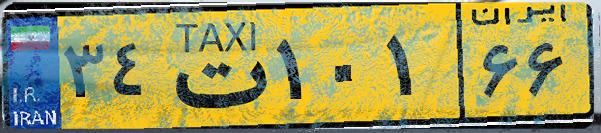0: (330, 28, 385, 110)
1: (270, 28, 330, 110), (385, 28, 445, 110)
3: (57, 26, 110, 100)
4: (110, 28, 158, 98)
6: (475, 38, 525, 113), (525, 38, 570, 115)
ت: (158, 12, 270, 120)
